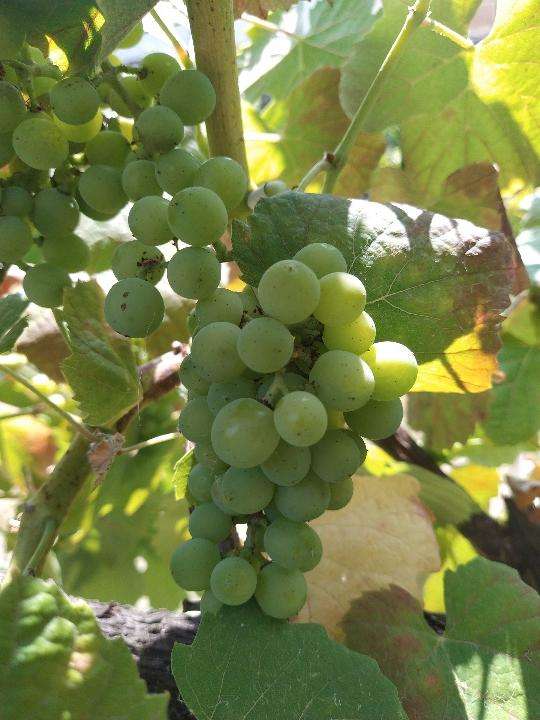grape: (169, 238, 422, 626), (7, 51, 251, 340)
